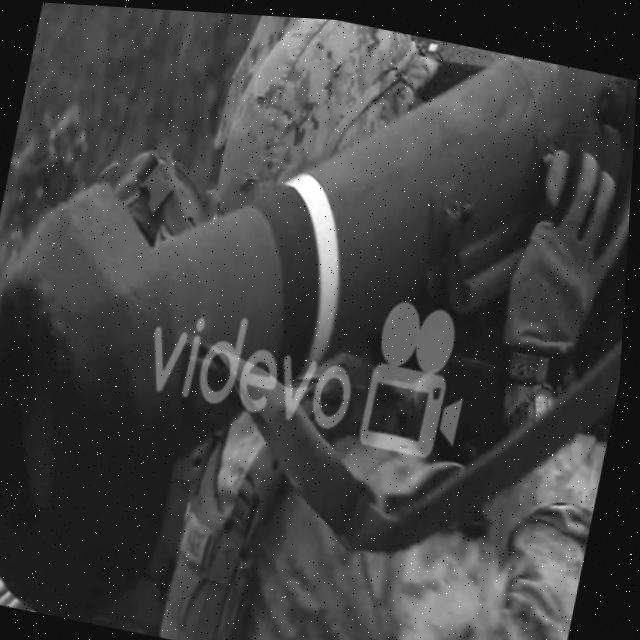rocket: (0, 0, 565, 640)
